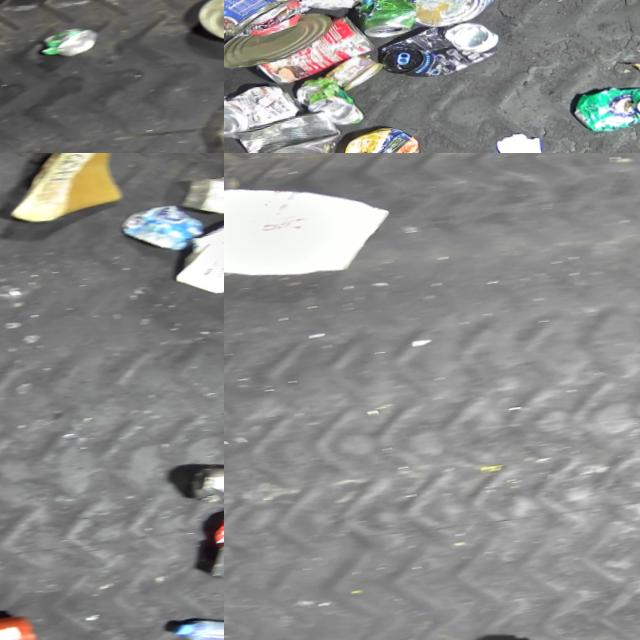can: (252, 12, 377, 86), (379, 17, 503, 82), (224, 9, 334, 68), (120, 192, 217, 255), (233, 106, 344, 153), (224, 80, 301, 139), (294, 73, 365, 129), (571, 81, 640, 133), (170, 166, 224, 221), (352, 0, 420, 40), (179, 450, 224, 510), (224, 0, 284, 44), (339, 122, 422, 153), (324, 52, 385, 92), (412, 0, 499, 27), (38, 24, 100, 58), (295, 0, 385, 13)
milk_jug: (224, 169, 398, 289)
